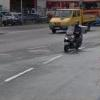Motorcycle: (57, 22, 88, 56)
